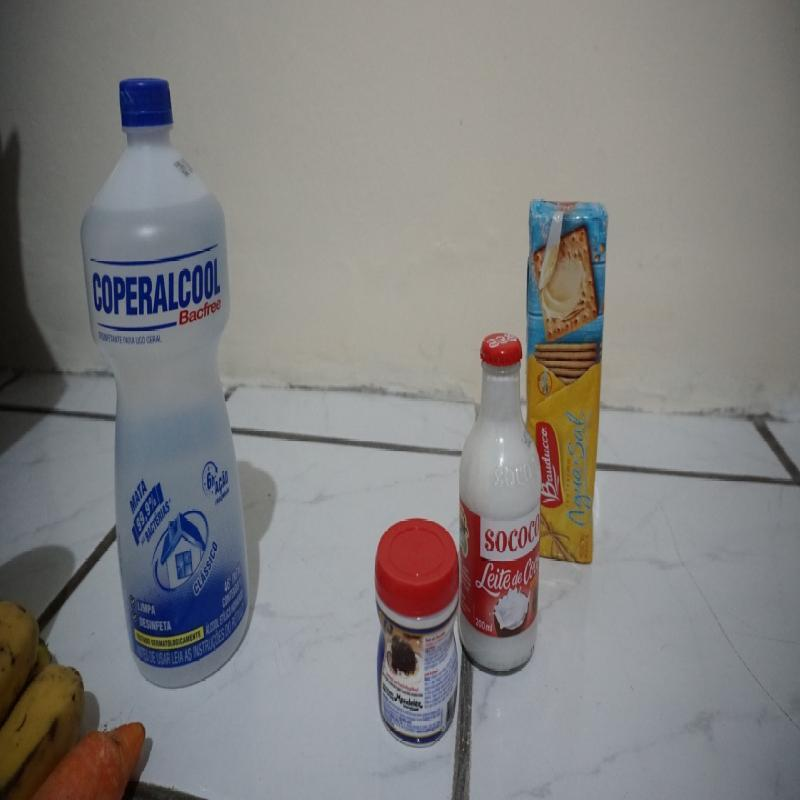Alcohol Bottle: (82, 76, 256, 688)
Banana: (1, 604, 53, 778)
Carrot: (60, 708, 150, 794)
Coconut Milk: (463, 334, 540, 675)
Cracker: (540, 202, 607, 558)
Yeast: (374, 514, 458, 746)
